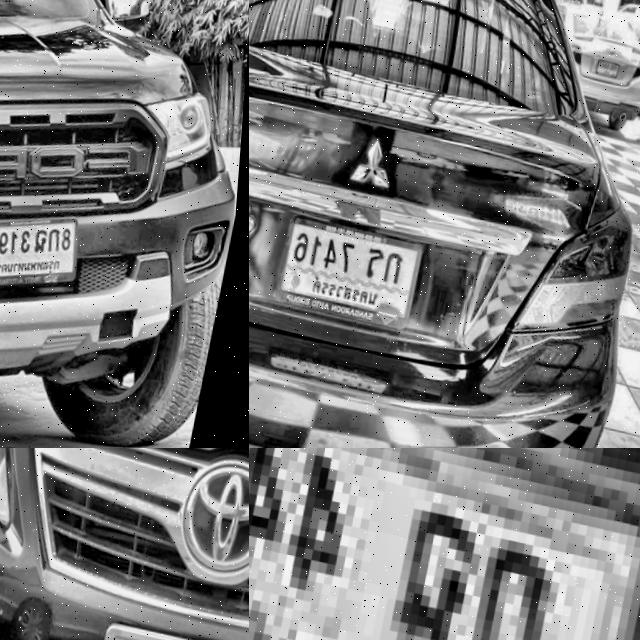license-plate: (249, 448, 640, 640), (279, 206, 430, 325), (0, 184, 95, 302), (594, 43, 623, 70)
